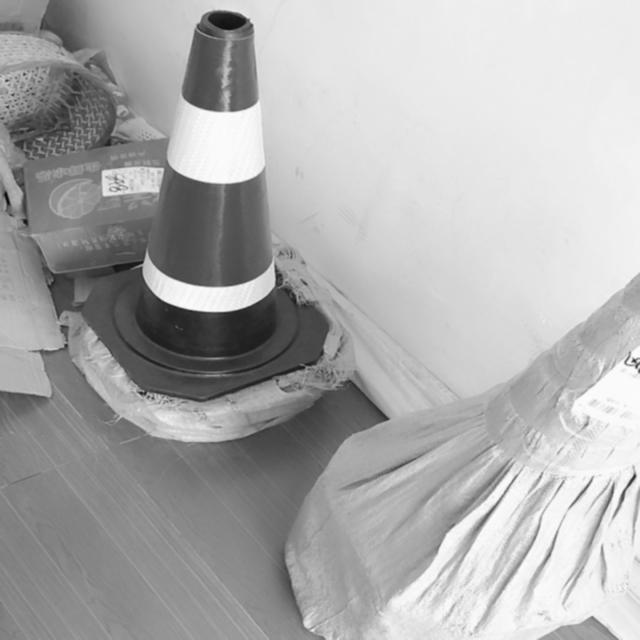reflective_cone: (77, 6, 329, 401)
